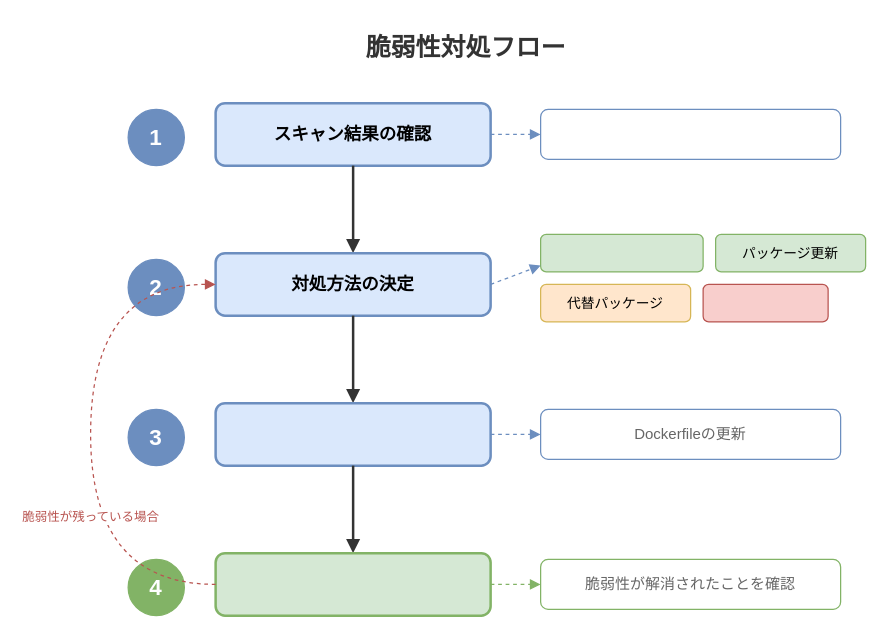
This 888x638 diagram has some shape labels left out. Here are the shapes that lost their labels. From the top down, the centre of each, then its label:
At point (690, 133): "深刻度と影響範囲を評価".
At point (621, 252): "ベースイメージ更新".
At point (765, 302): "リスク受容".
At point (352, 433): "修正の適用".
At point (352, 583): "再スキャンで確認".
